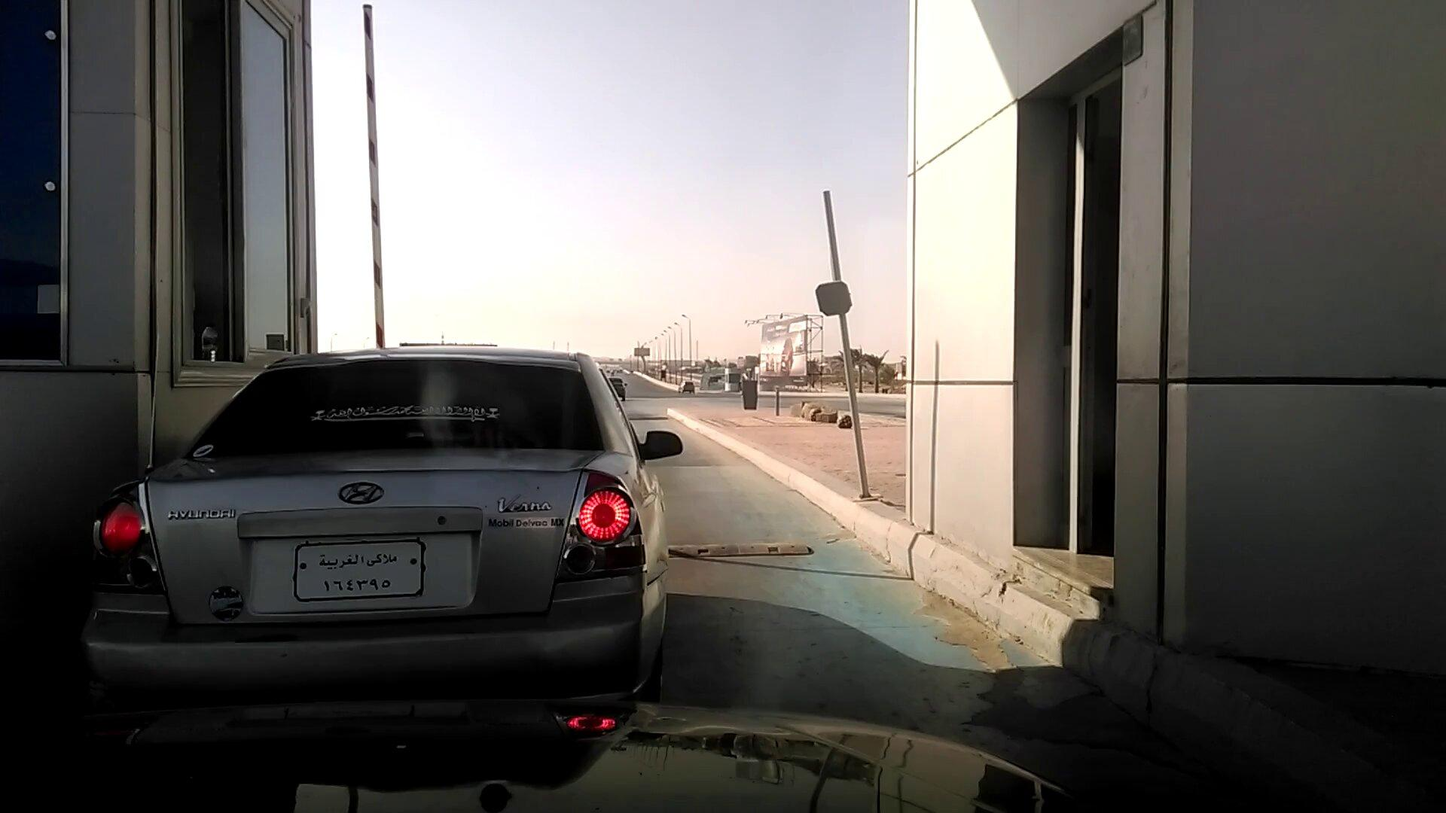Bump: (665, 537, 818, 566)
